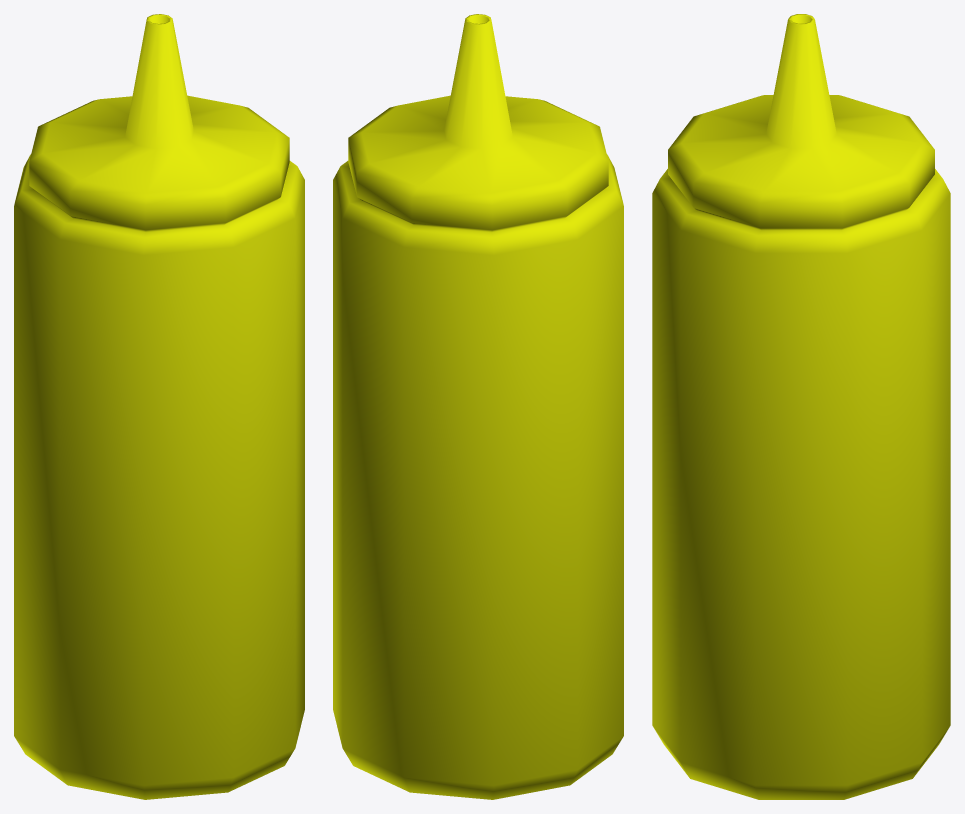
File: Lemon Bottle.fbx
The picture shows the model from 3 angles, left to right: view 1: azimuth 30°, elevation 25°; view 2: azimuth 150°, elevation 25°; view 3: azimuth 270°, elevation 25°; orthographic projection.
Visible parts, largest first — view 1: Lemon Sauce; view 2: Lemon Sauce; view 3: Lemon Sauce.
Boxes of the visible parts, bbox=[...] form: Lemon Sauce: bbox=[14, 14, 304, 799]; Lemon Sauce: bbox=[333, 14, 623, 799]; Lemon Sauce: bbox=[652, 14, 950, 799].
Size of the model in its own units: 12.98 by 36.6 by 13.65.
